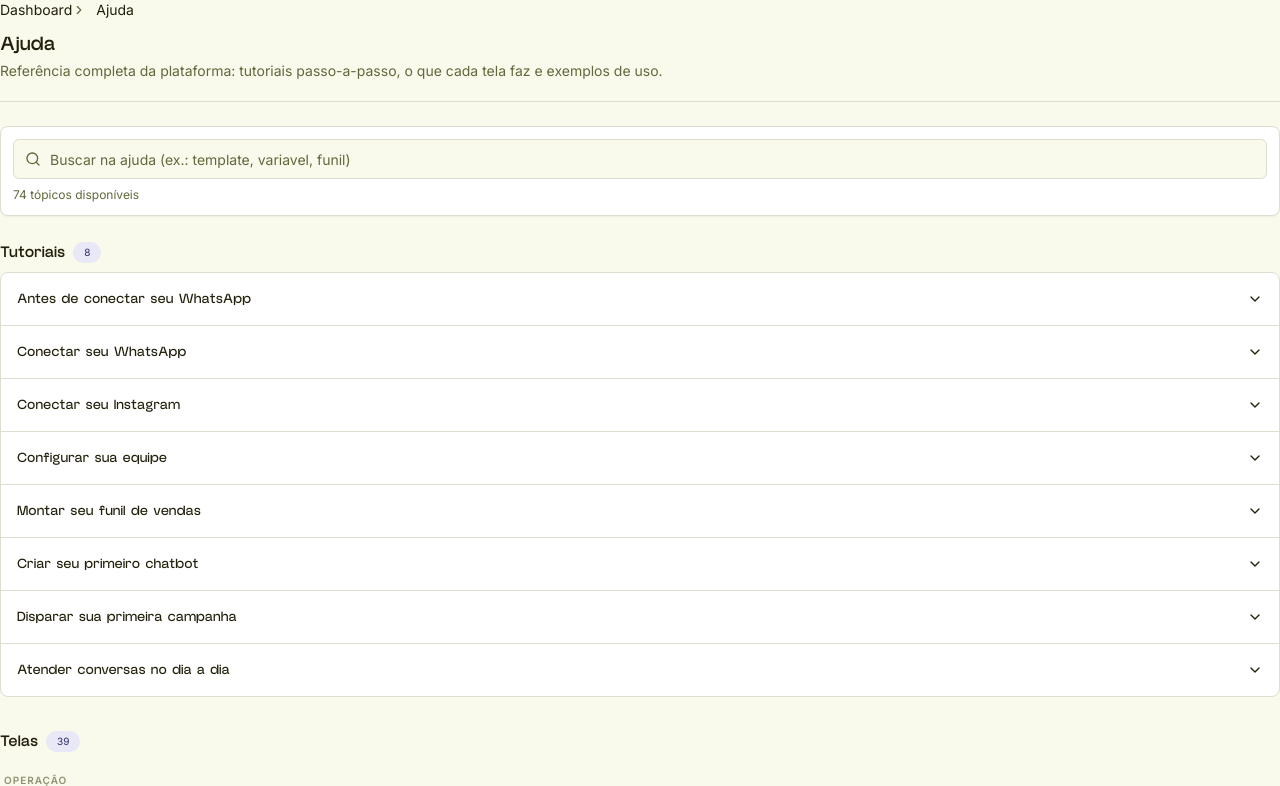
Test: Help — busca › mostra o estado vazio em pt-BR e o botão de limpar devolve a lista
This screenshot has width=1280, height=786.
Type "zzzzzzzz" into the search field labelled "Buscar na ajuda" at point(640, 159), box [13, 139, 1267, 179]
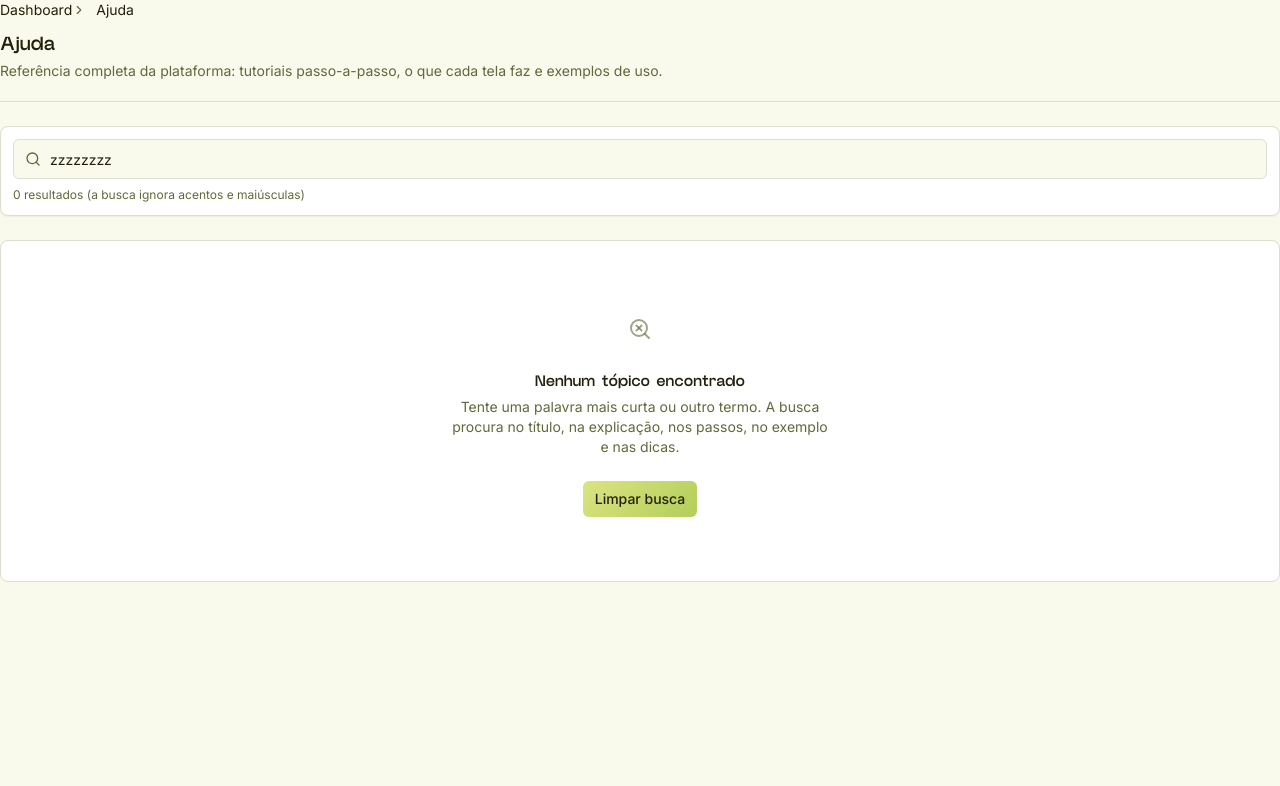
Now the heading "Nenhum tópico encontrado" is shown, box [535, 369, 745, 393]
Click the button "Limpar busca" at point(640, 499), box [583, 481, 697, 517]
(page scrolled)
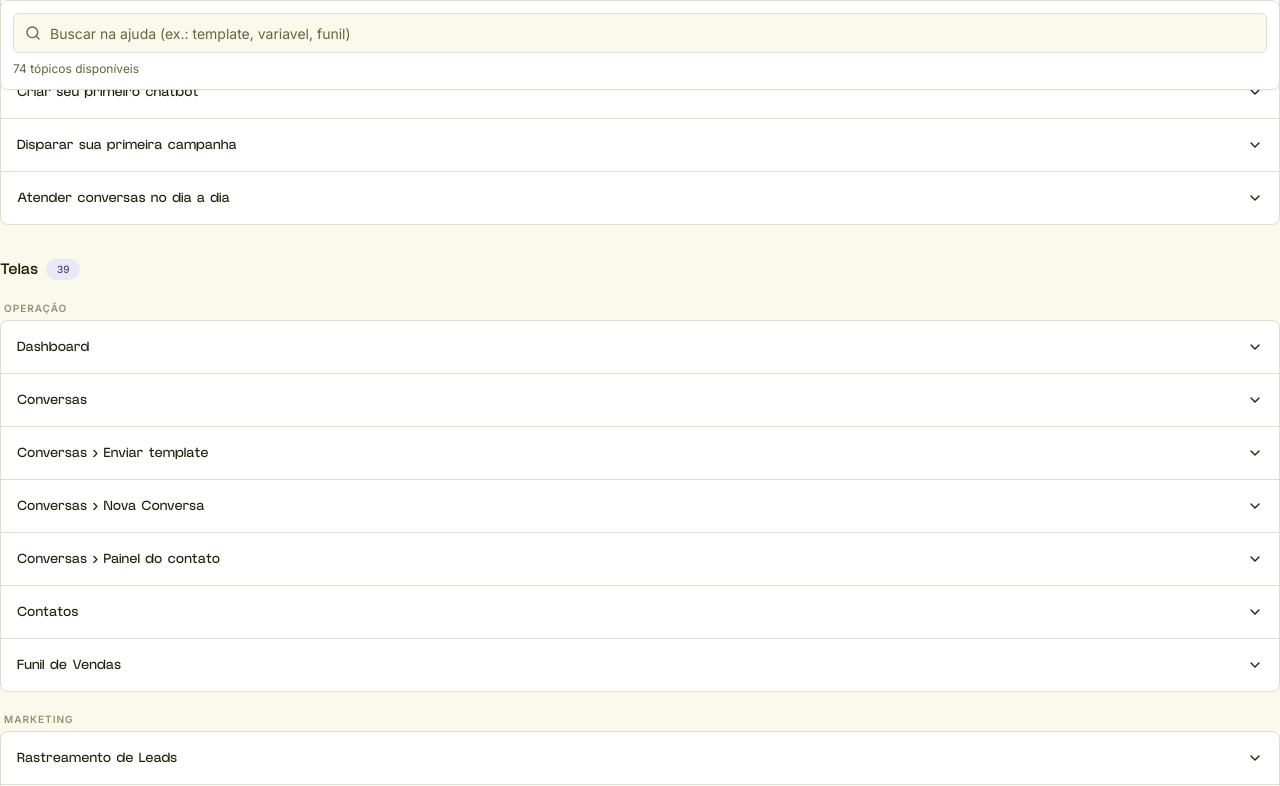
Now the heading "Nenhum tópico encontrado" is gone
Now the button "Conversas" is shown, box [17, 374, 1263, 426]
